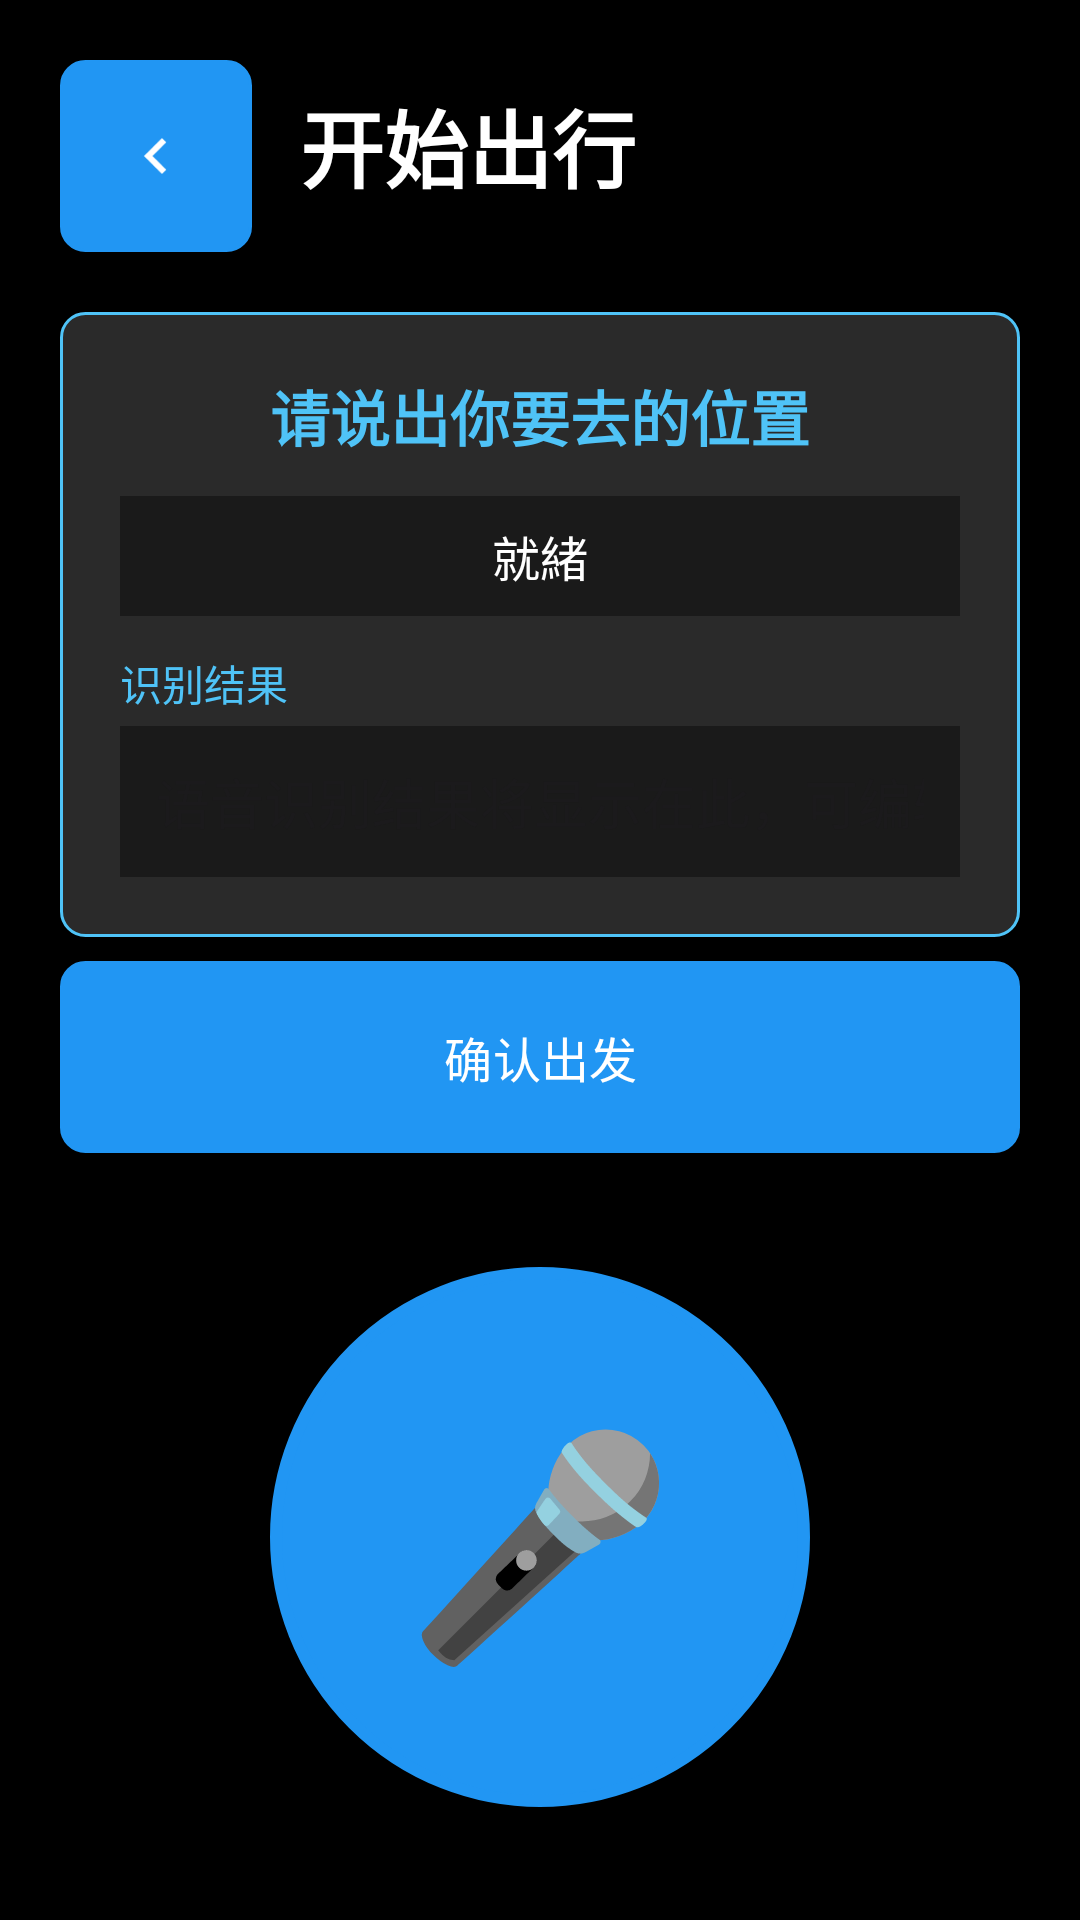

Icon click points for this 1080px x 1920px phone screenshot, format [x,y]:
Back Button: [156,156]
